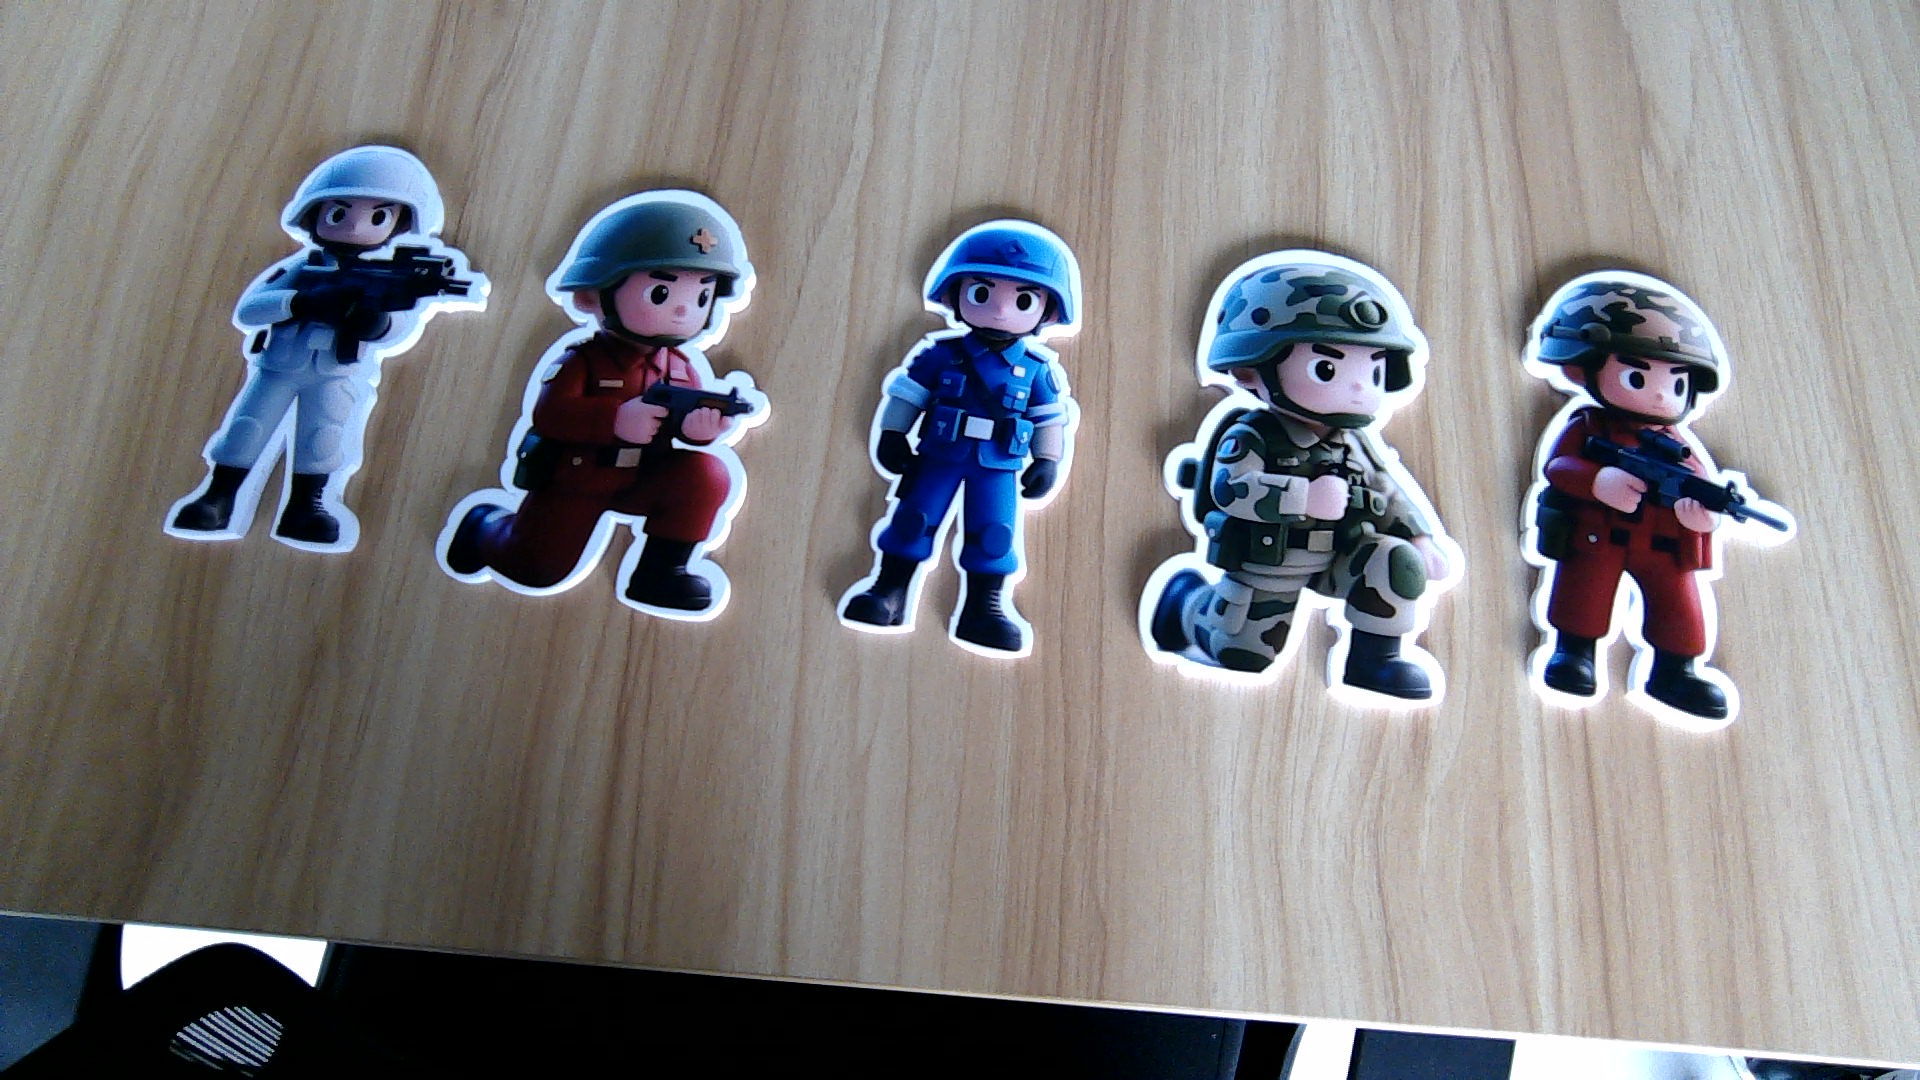人质: (156, 252, 446, 553)
友军: (1135, 417, 1457, 711)
敌人1: (431, 334, 761, 621), (1511, 405, 1796, 732)
敌人2: (833, 330, 1076, 654)
